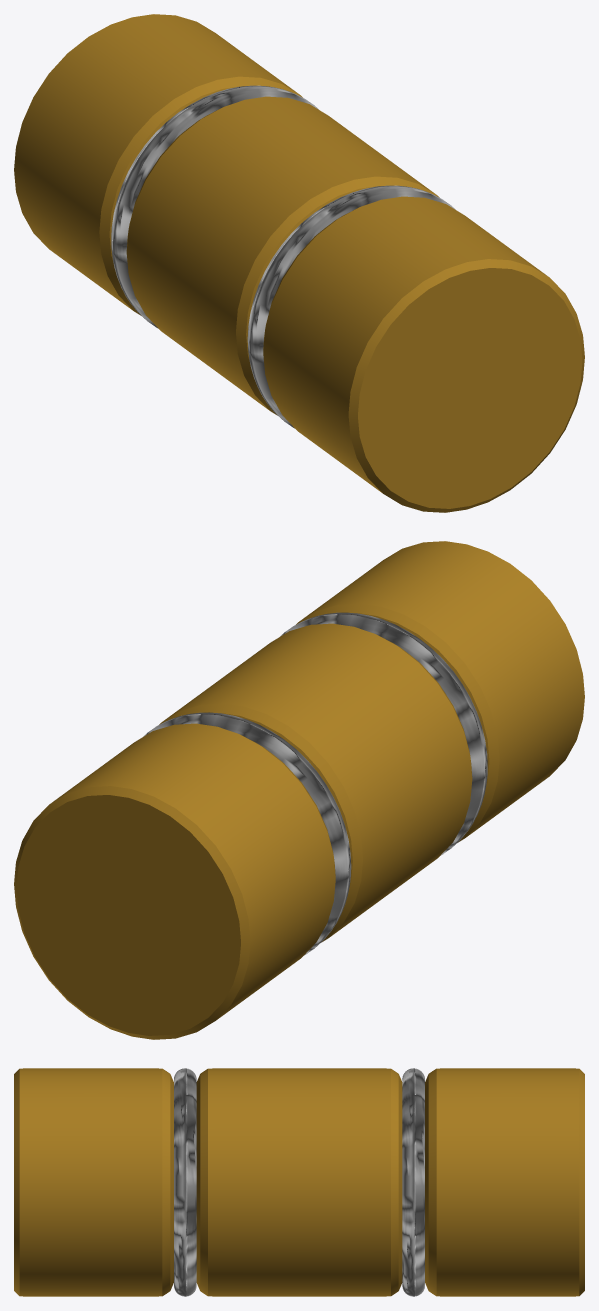
Rendered from Interior2_FuelTank v2.fbx.
3 renders of one model, top to bottom at view 1: azimuth 30°, elevation 25°; view 2: azimuth 150°, elevation 25°; view 3: azimuth 270°, elevation 25°, orthographic. The views are drawn at different scales.
Parts seen in each view (by area): view 1: Body1, Body2, Body3; view 2: Body1, Body3, Body2; view 3: Body1, Body2, Body3.
Part boxes in pixels (x1,y1,x2,y2): Body1: [14, 14, 584, 512]; Body2: [247, 185, 455, 428]; Body3: [111, 85, 318, 328]; Body1: [14, 541, 584, 1039]; Body3: [143, 712, 351, 955]; Body2: [280, 612, 487, 855]; Body1: [14, 1068, 584, 1296]; Body2: [174, 1068, 196, 1296]; Body3: [402, 1068, 424, 1296].
Size of the model in its own units: 4 by 4 by 10.
